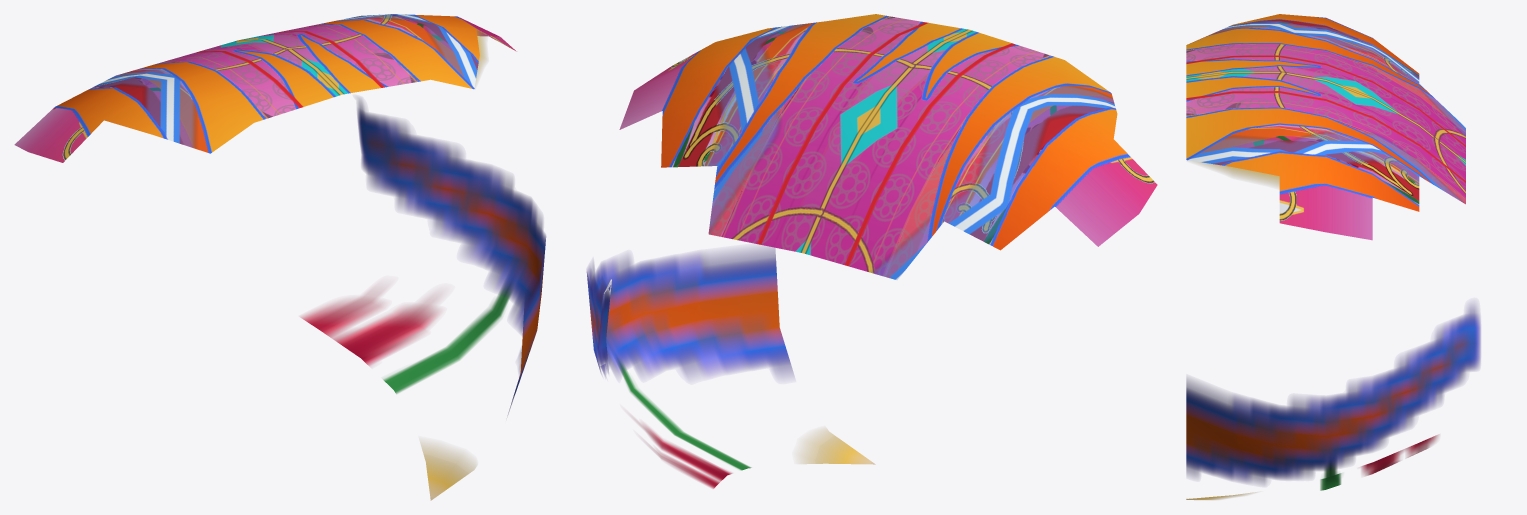
Rendered from DirtBikeVinyls.glb.
3 renders of one model, left to right at view 1: azimuth 30°, elevation 25°; view 2: azimuth 150°, elevation 25°; view 3: azimuth 270°, elevation 25°, orthographic. The views are drawn at different scales.
Visible parts, largest first — view 1: DirtBikeLivery_flames_side, DirtBikeLivery_flames_hood, DirtBikeLivery_patterns_hood, DirtBikeLivery_roses_side, DirtBikeLivery_flames_teal_side, DirtBikeLivery_purple_lace_hood, DirtBikeLivery_lightning_hood, DirtBikeLivery_retro_waves_hood, DirtBikeLivery_sunset_fade_hood, DirtBikeLivery_stripes_hood, DirtBikeLivery_tropical_hood, DirtBikeLivery_scallops_side (+3 smaller); view 2: DirtBikeLivery_patterns_hood, DirtBikeLivery_purple_lace_hood, DirtBikeLivery_flames_hood, DirtBikeLivery_flames_side, DirtBikeLivery_lightning_hood, DirtBikeLivery_retro_waves_hood, DirtBikeLivery_sunset_fade_hood, DirtBikeLivery_flames_teal_side, DirtBikeLivery_tropical_hood, DirtBikeLivery_mural_hood, DirtBikeLivery_roses_side, DirtBikeLivery_checker_hood (+4 smaller); view 3: DirtBikeLivery_flames_side, DirtBikeLivery_patterns_hood, DirtBikeLivery_flames_hood, DirtBikeLivery_purple_lace_hood, DirtBikeLivery_flames_teal_side, DirtBikeLivery_lightning_hood, DirtBikeLivery_retro_waves_hood, DirtBikeLivery_sunset_fade_hood, DirtBikeLivery_tropical_hood, DirtBikeLivery_mural_hood, DirtBikeLivery_stripes_hood, DirtBikeLivery_checker_hood (+4 smaller).
Part boxes in pixels (x1,y1,x2,y2): DirtBikeLivery_flames_side: (358,102,545,407); DirtBikeLivery_flames_hood: (54,14,489,153); DirtBikeLivery_patterns_hood: (123,16,422,118); DirtBikeLivery_roses_side: (300,283,512,393); DirtBikeLivery_flames_teal_side: (358,104,545,407); DirtBikeLivery_purple_lace_hood: (164,25,417,118); DirtBikeLivery_lightning_hood: (91,14,477,148); DirtBikeLivery_retro_waves_hood: (94,15,478,152); DirtBikeLivery_sunset_fade_hood: (15,16,516,162); DirtBikeLivery_stripes_hood: (211,25,410,116); DirtBikeLivery_tropical_hood: (15,18,513,162); DirtBikeLivery_scallops_side: (420,441,476,500); DirtBikeLivery_patterns_hood: (707,16,1056,277); DirtBikeLivery_purple_lace_hood: (723,16,1050,272); DirtBikeLivery_flames_hood: (661,14,1130,250); DirtBikeLivery_flames_side: (587,249,792,374); DirtBikeLivery_lightning_hood: (702,23,1115,280); DirtBikeLivery_retro_waves_hood: (678,22,1114,276); DirtBikeLivery_sunset_fade_hood: (619,25,1157,246); DirtBikeLivery_flames_teal_side: (587,252,791,373); DirtBikeLivery_tropical_hood: (620,36,1156,246); DirtBikeLivery_mural_hood: (672,29,1153,273); DirtBikeLivery_roses_side: (617,358,751,488); DirtBikeLivery_checker_hood: (757,22,1015,266); DirtBikeLivery_flames_side: (1186,307,1480,481); DirtBikeLivery_patterns_hood: (1186,27,1465,203); DirtBikeLivery_flames_hood: (1186,14,1435,211); DirtBikeLivery_purple_lace_hood: (1186,44,1465,197); DirtBikeLivery_flames_teal_side: (1186,309,1479,480); DirtBikeLivery_lightning_hood: (1188,20,1465,202); DirtBikeLivery_retro_waves_hood: (1196,19,1465,203); DirtBikeLivery_sunset_fade_hood: (1220,19,1402,239); DirtBikeLivery_tropical_hood: (1270,136,1401,239); DirtBikeLivery_mural_hood: (1186,35,1465,220); DirtBikeLivery_stripes_hood: (1186,44,1360,129); DirtBikeLivery_checker_hood: (1186,55,1465,182).
Bounding box in the file's own units: 1.28 × 1.05 × 0.8.
Materials: 30 (30 with a texture image).
